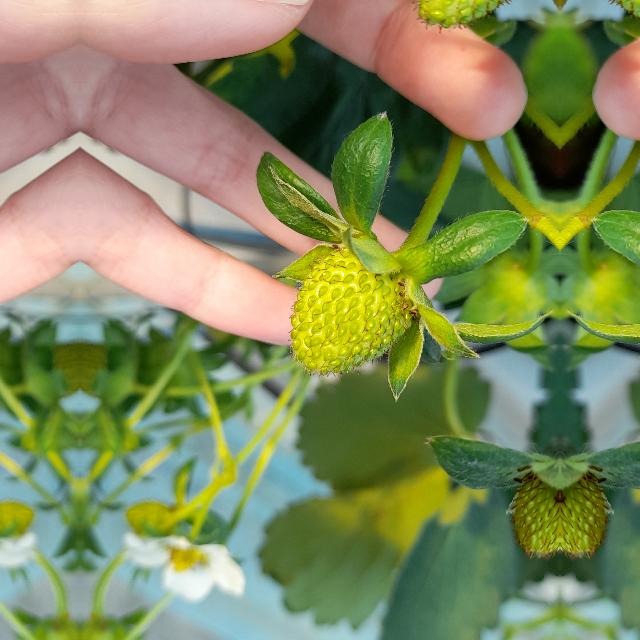Health_25: (288, 247, 412, 379), (508, 474, 560, 562), (560, 474, 612, 562)
